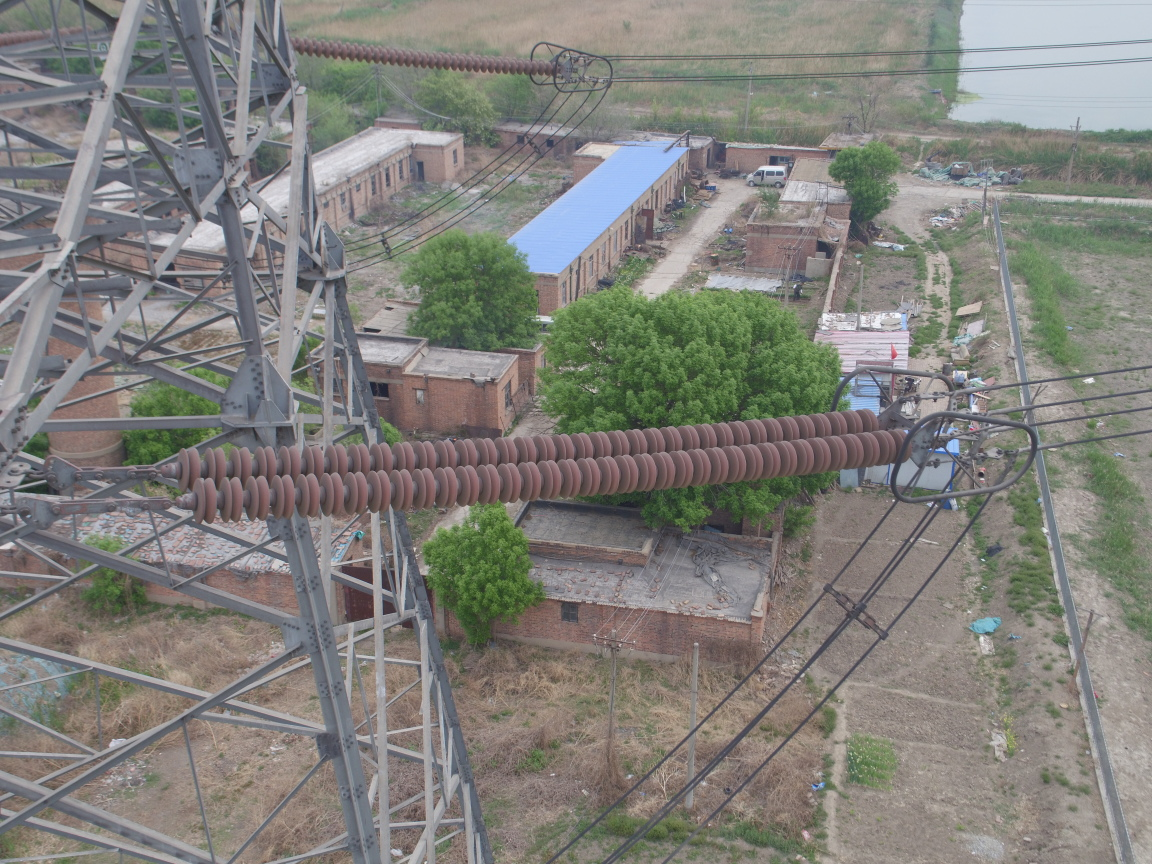insulator: (129, 403, 927, 528), (291, 30, 566, 79)
